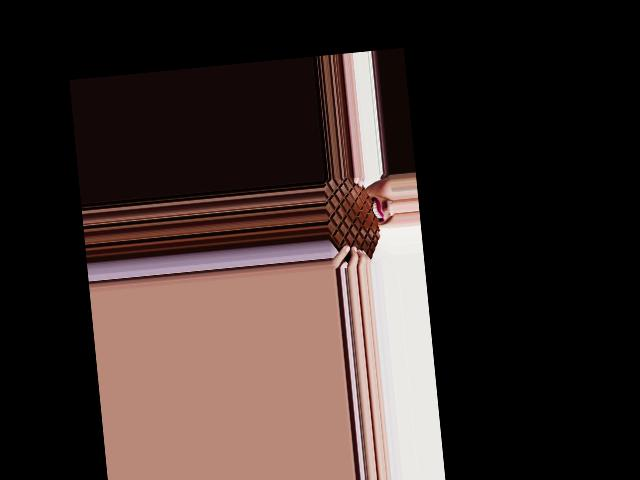chocolate: (323, 175, 385, 269)
